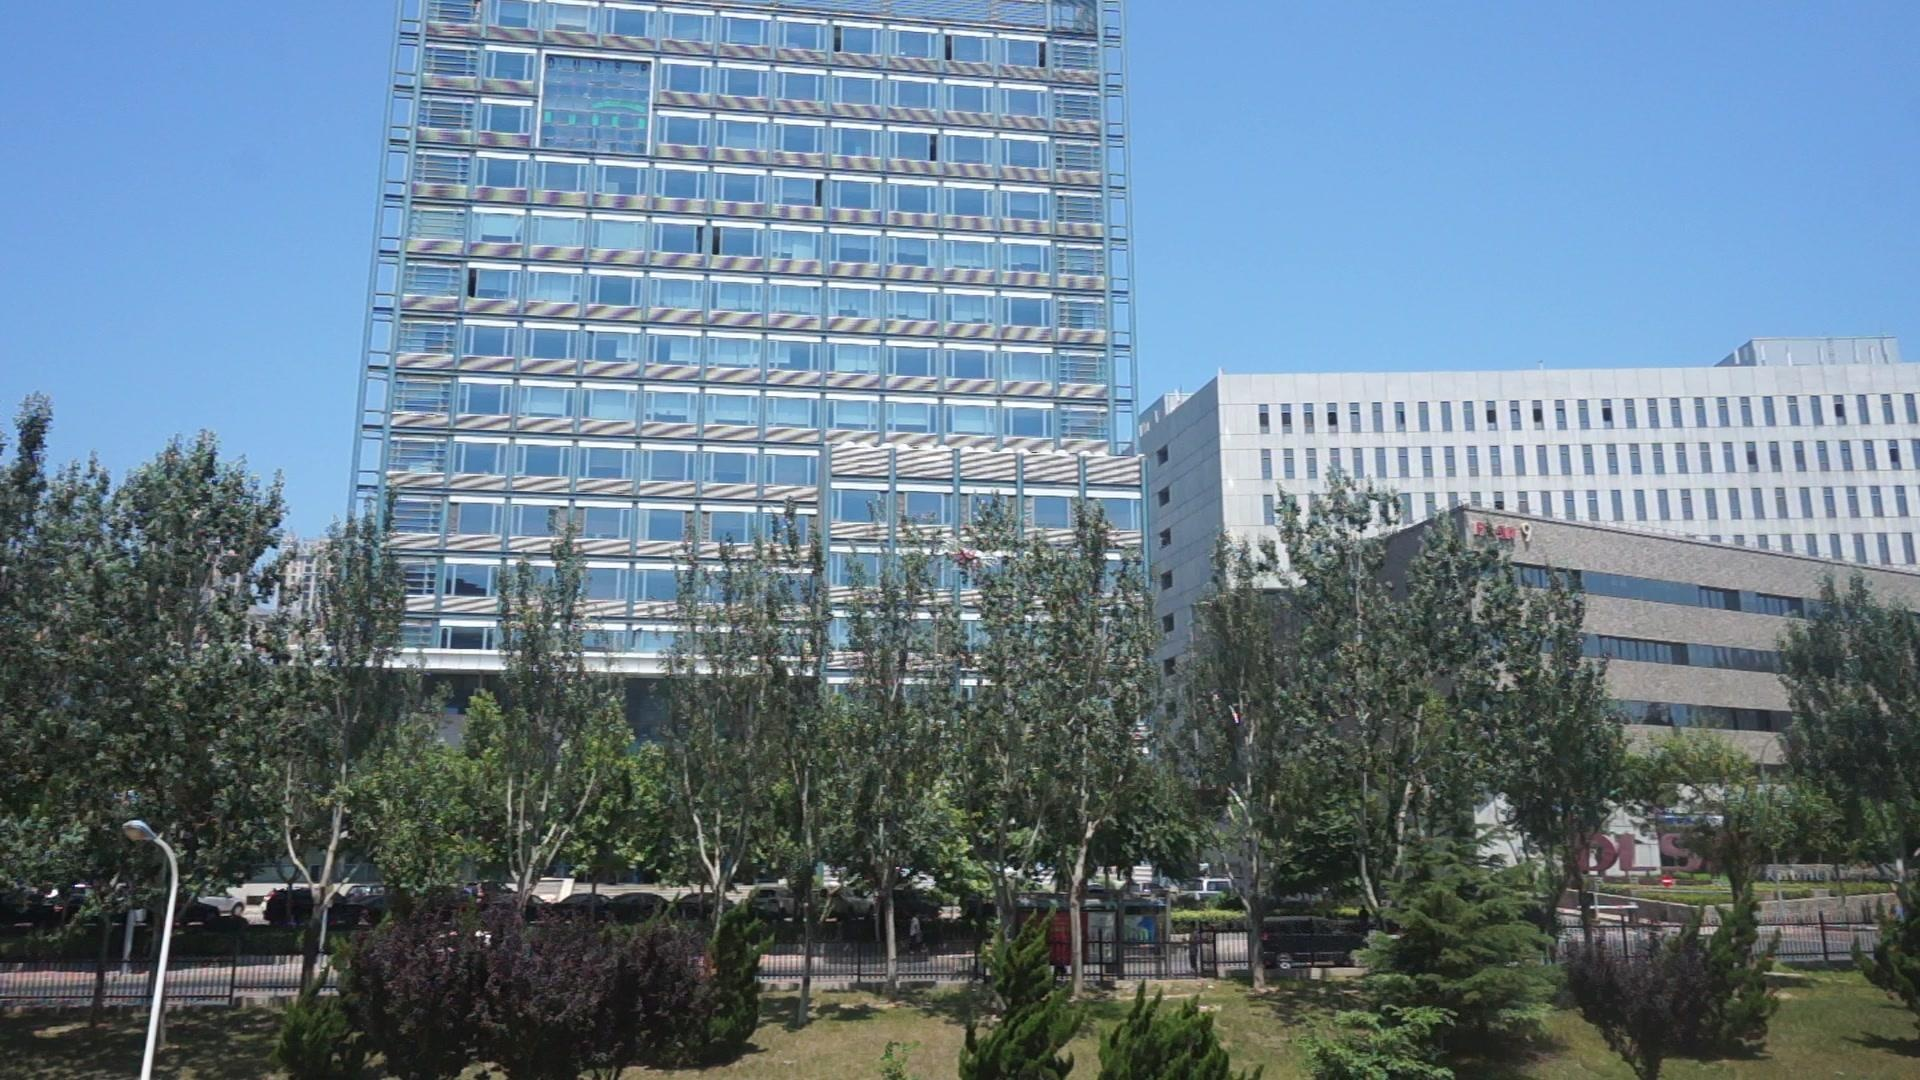UAV: (932, 533, 996, 570)
